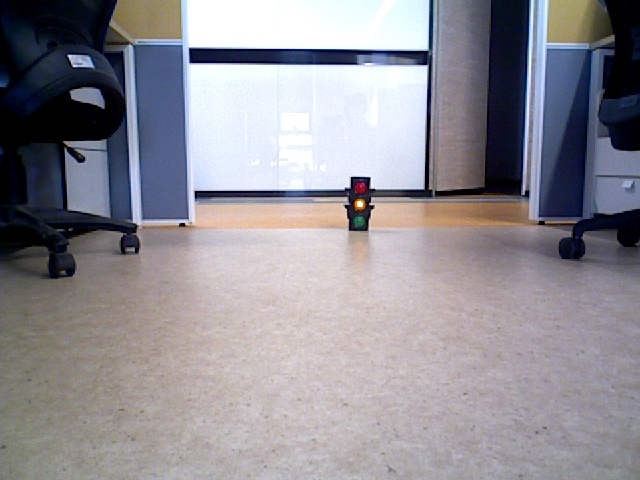yellow: (348, 176, 368, 228)
